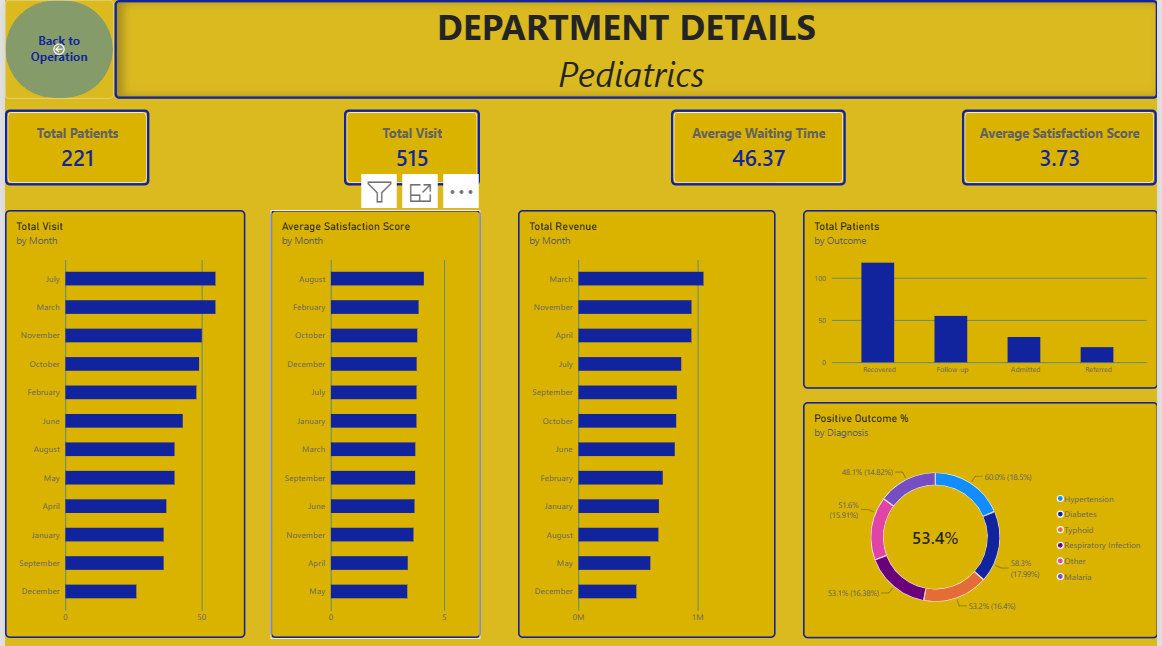

The page's visual inventory and layout, read from the dashboard file:
{"tool":"powerbi","page":{"name":"Department details","canvas":[1920,1080],"ordinal":5},"visuals":[{"type":"actionButton","box":[0,0,181.3,164.6],"z":0},{"type":"cardVisual","fields":{"Data":["Date_Table.Total Patients"]},"box":[0,181.3,241,126.5],"z":1},{"type":"cardVisual","fields":{"Data":["Date_Table.Total Visit"]},"box":[565.5,181.3,226.7,126.5],"z":2},{"type":"cardVisual","fields":{"Data":["Date_Table.Average Waiting Time"]},"box":[1109.5,181.3,291.1,126.5],"z":3},{"type":"cardVisual","fields":{"Data":["Date_Table.Average Satisfaction Score"]},"box":[1596.2,181.3,324.5,126.5],"z":4},{"type":"barChart","fields":{"Category":["Date_Table.Month"],"Y":["Date_Table.Total Visit"]},"box":[0,350.7,400.8,713.4],"z":5},{"type":"columnChart","fields":{"Category":["Patient_Visits.Outcome"],"Y":["Date_Table.Total Patients"]},"box":[1329,350.7,591.7,298.2],"z":6},{"type":"barChart","fields":{"Category":["Date_Table.Month"],"Y":["Date_Table.Average Satisfaction Score"]},"box":[441.4,350.7,350.7,713.4],"z":7},{"type":"barChart","fields":{"Category":["Date_Table.Month"],"Y":["Date_Table.Total Revenue"]},"box":[854.2,350.7,429.5,713.4],"z":8},{"type":"donutChart","fields":{"Category":["Patient_Visits.Diagnosis"],"Y":["Date_Table.Positive Outcome %"]},"box":[1329,670.4,591.7,393.7],"z":9},{"type":"textbox","box":[0,351,181,150],"z":10},{"type":"textbox","box":[181.3,0,1739.3,164.6],"z":11}]}

Visuals, with their boxes in screenshot pixels (x1, y1, x2, y2), scaled from the page's 1920x1080 canvas onto the 1162x646 screenshot:
actionButton: x1=0, y1=0, x2=110, y2=98
cardVisual - Date_Table.Total Patients: x1=0, y1=108, x2=146, y2=184
cardVisual - Date_Table.Total Visit: x1=342, y1=108, x2=479, y2=184
cardVisual - Date_Table.Average Waiting Time: x1=671, y1=108, x2=848, y2=184
cardVisual - Date_Table.Average Satisfaction Score: x1=966, y1=108, x2=1161, y2=184
barChart - Date_Table.Month x Date_Table.Total Visit: x1=0, y1=210, x2=243, y2=636
columnChart - Patient_Visits.Outcome x Date_Table.Total Patients: x1=804, y1=210, x2=1161, y2=388
barChart - Date_Table.Month x Date_Table.Average Satisfaction Score: x1=267, y1=210, x2=479, y2=636
barChart - Date_Table.Month x Date_Table.Total Revenue: x1=517, y1=210, x2=777, y2=636
donutChart - Patient_Visits.Diagnosis x Date_Table.Positive Outcome %: x1=804, y1=401, x2=1161, y2=636
textbox: x1=0, y1=210, x2=110, y2=300
textbox: x1=110, y1=0, x2=1161, y2=98
